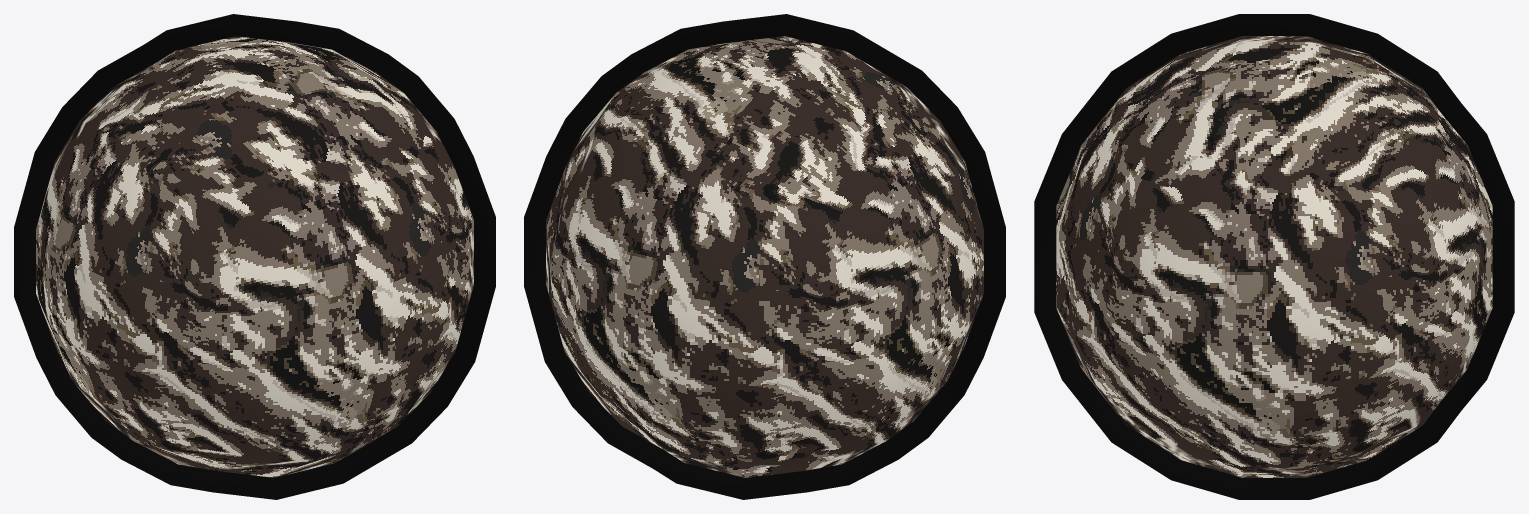
Rendered from proxi.gltf.
The picture shows the model from 3 angles, left to right: view 1: azimuth 30°, elevation 25°; view 2: azimuth 150°, elevation 25°; view 3: azimuth 270°, elevation 25°; orthographic projection.
Parts seen in each view (by area): view 1: Object_2; view 2: Object_2; view 3: Object_2.
Part boxes in pixels (box(x1,y1,x2,y2)): Object_2: box(14, 14, 495, 499); Object_2: box(524, 14, 1005, 499); Object_2: box(1034, 14, 1514, 499).
Size of the model in its own units: 3.7 by 3.7 by 3.7.
1 material, 1 textured.
